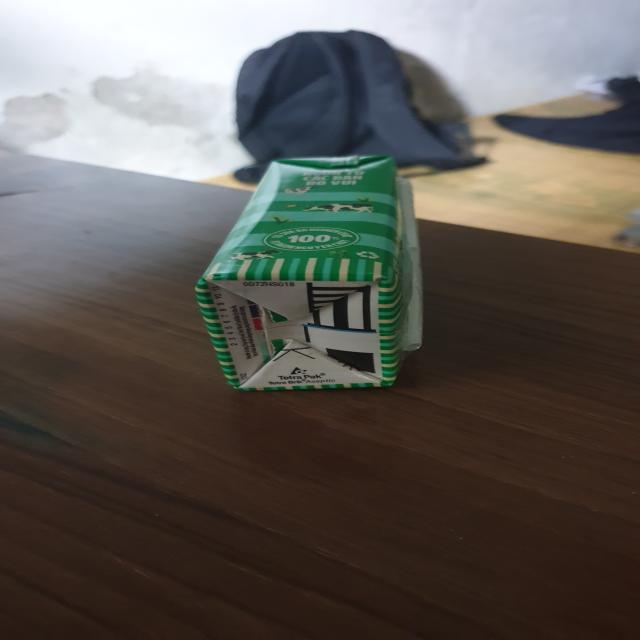Vina: (194, 154, 411, 398)
